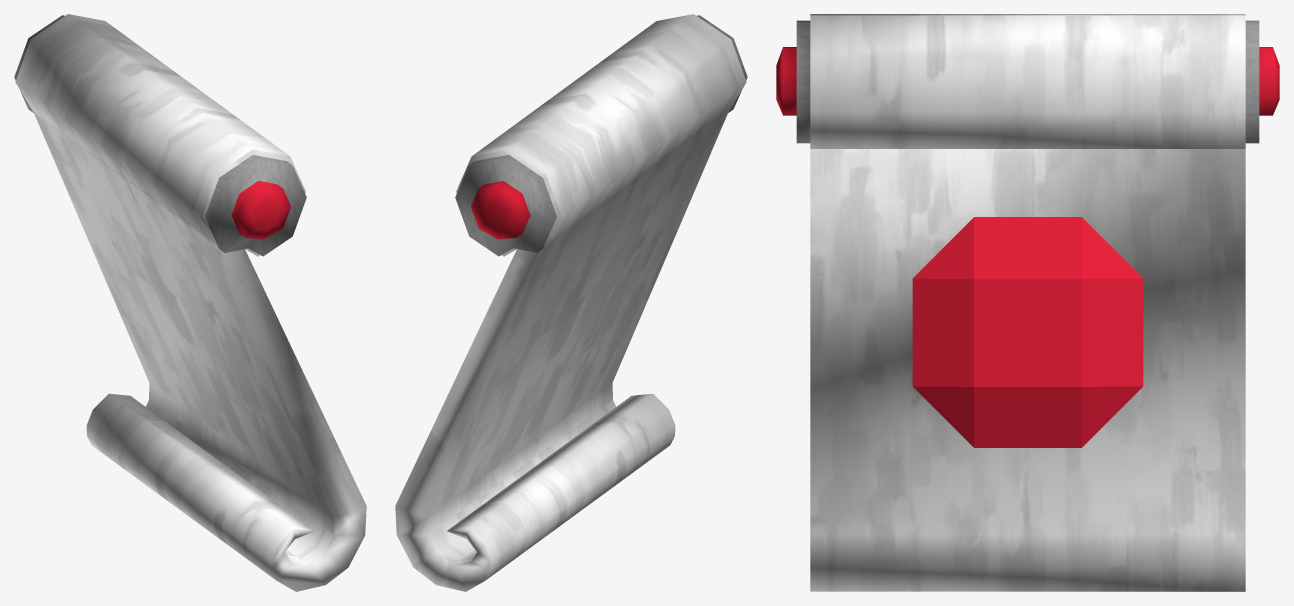
The model's file is item_recipe_gem_ruby.fbx.
3 views of the same model, side by side, from view 1: azimuth 30°, elevation 25°; view 2: azimuth 150°, elevation 25°; view 3: azimuth 270°, elevation 25° (orthographic). The views are drawn at different scales.
Visible parts, largest first — view 1: Ruby; view 2: Ruby; view 3: Ruby.
Boxes of the visible parts, x1,y1,x2,y2 form: Ruby: (14, 14, 366, 591); Ruby: (395, 14, 747, 591); Ruby: (776, 14, 1279, 591).
Bounding box in the file's own units: 83.18 × 216 × 185.
4 materials, 2 textured.
